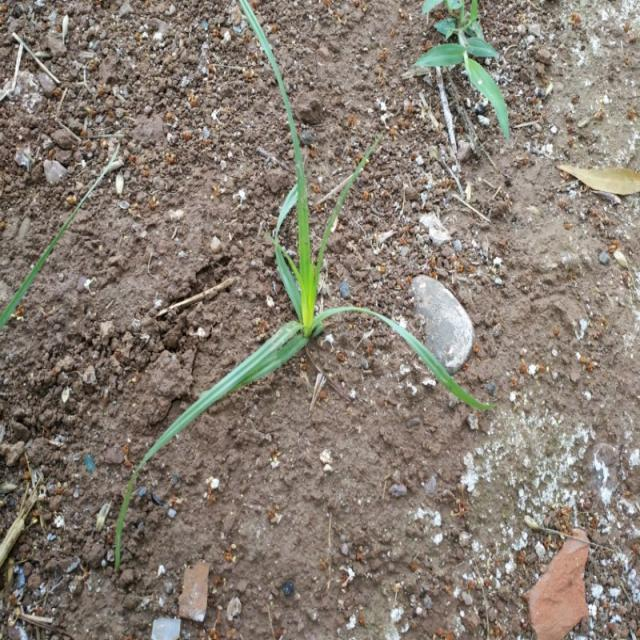sedge: (96, 79, 462, 479)
